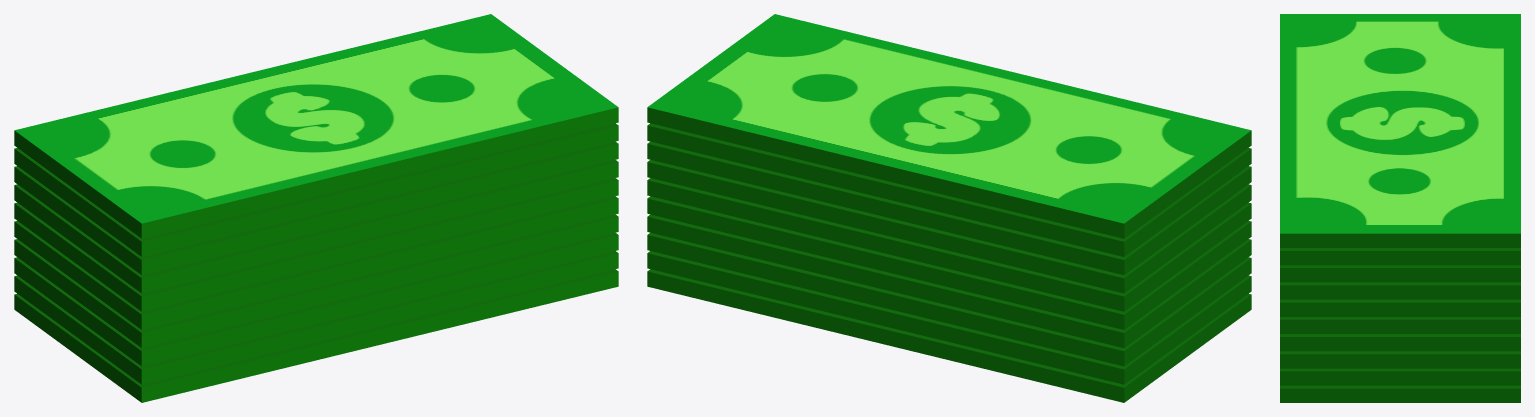
The model's file is Dolar2.fbx.
3 renders of one model, left to right at view 1: azimuth 30°, elevation 25°; view 2: azimuth 150°, elevation 25°; view 3: azimuth 270°, elevation 25°, orthographic. The views are drawn at different scales.
Visible parts, largest first — view 1: Dolar2; view 2: Dolar2; view 3: Dolar2.
Part boxes in pixels (x1,y1,x2,y2): Dolar2: (14,14,618,402); Dolar2: (647,14,1251,402); Dolar2: (1280,14,1520,402).
Bounding box in the file's own units: 40 × 14.38 × 18.52.
1 material, 1 textured.
